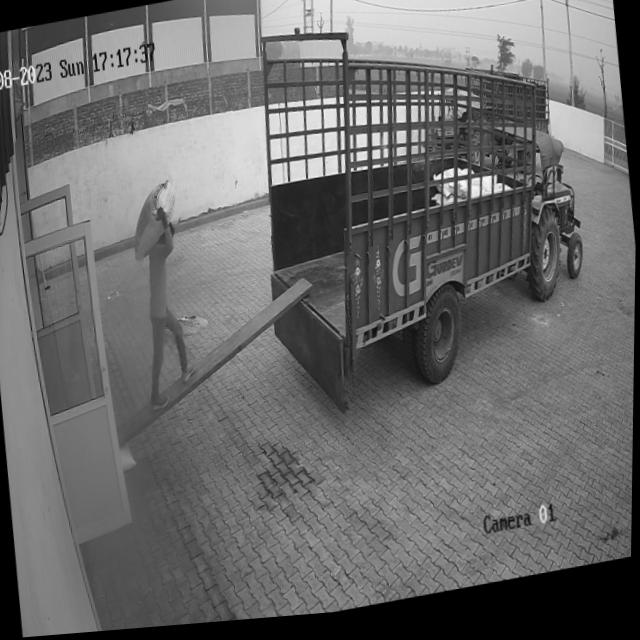sack: (128, 181, 184, 263)
